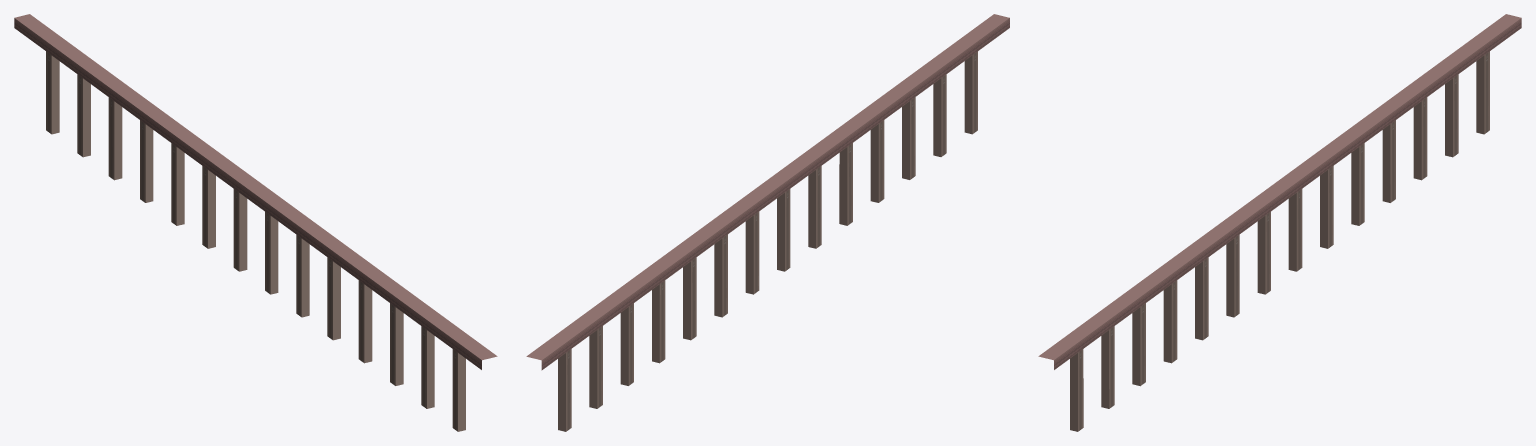
Rendered from kd_stage_135fe0_5_74_bounded.glb.
The picture shows the model from 3 angles, left to right: view 1: azimuth 30°, elevation 25°; view 2: azimuth 150°, elevation 25°; view 3: azimuth 330°, elevation 25°; orthographic projection.
Parts seen in each view (by area): view 1: kd_stage_135fe0_5_74_bounded; view 2: kd_stage_135fe0_5_74_bounded; view 3: kd_stage_135fe0_5_74_bounded.
Boxes of the visible parts, x1,y1,x2,y2 form: kd_stage_135fe0_5_74_bounded: (14,14,497,431); kd_stage_135fe0_5_74_bounded: (526,14,1009,431); kd_stage_135fe0_5_74_bounded: (1038,14,1521,431).
Size of the model in its own units: 0.0991 by 0.5604 by 5.11.
1 material, 1 textured.
